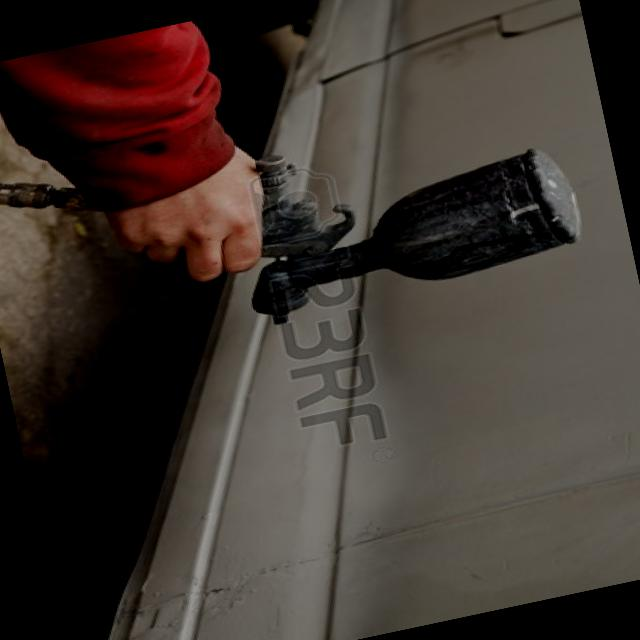handgun: (138, 112, 380, 341)
